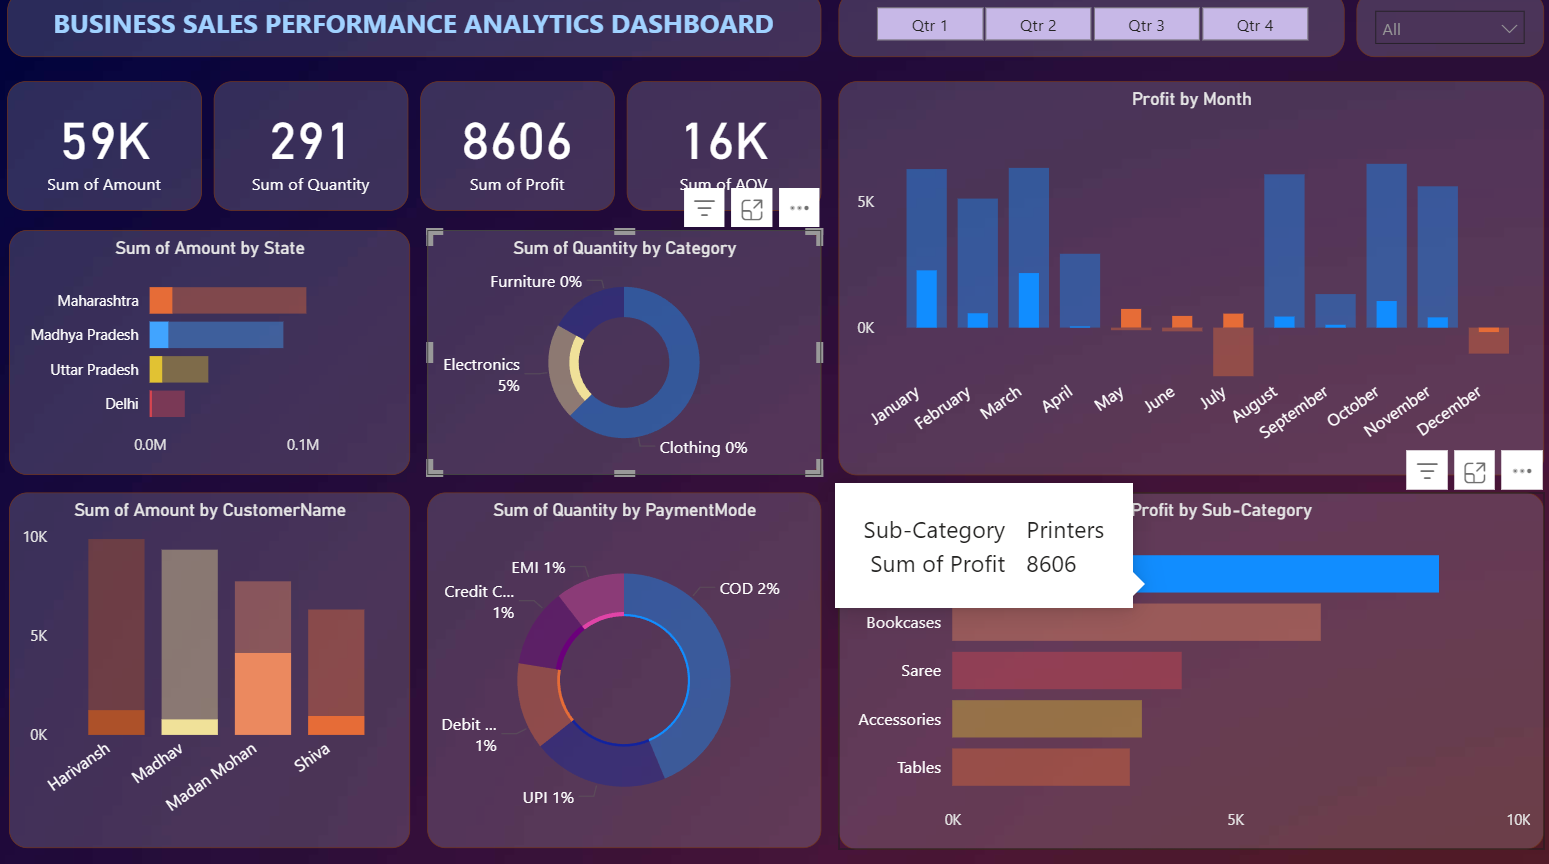

What the dashboard file says about the page in this screenshot:
{"tool":"powerbi","page":{"name":"Page 1","canvas":[1280,720],"ordinal":0},"visuals":[{"type":"textbox","box":[10,0,664.3,52.9],"z":0},{"type":"columnChart","title":"Profit by Month","fields":{"Y":["Sum(Details.Profit)"],"Category":["Orders.Order Date.Variation.Date Hierarchy.Month"]},"box":[688.6,72.9,575.7,321.4],"z":1000},{"type":"barChart","fields":{"Category":["Details.Sub-Category"],"Y":["Sum(Details.Profit)"]},"box":[688.6,408.6,575.7,291.4],"z":2000},{"type":"donutChart","fields":{"Category":["Details.Category"],"Y":["Sum(Details.Quantity)"]},"box":[352.9,194.3,321.4,200],"z":3000},{"type":"donutChart","fields":{"Y":["Sum(Details.Quantity)"],"Category":["Details.PaymentMode"]},"box":[352.9,408.6,321.4,290],"z":4000},{"type":"card","fields":{"Values":["Sum(Details.Amount)"]},"box":[10,72.9,158.6,105.7],"z":5000},{"type":"card","fields":{"Values":["Sum(Details.Quantity)"]},"box":[178.6,72.9,158.6,105.7],"z":6000},{"type":"card","fields":{"Values":["Sum(Details.Profit)"]},"box":[347.1,72.9,158.6,105.7],"z":7000},{"type":"card","fields":{"Values":["Sum(Details.AOV)"]},"box":[515.7,72.9,158.6,105.7],"z":8000},{"type":"barChart","fields":{"Category":["Orders.State"],"Y":["Sum(Details.Amount)"]},"box":[11.4,194.3,327.1,200],"z":9000},{"type":"columnChart","fields":{"Category":["Orders.CustomerName"],"Y":["Sum(Details.Amount)"]},"box":[11.4,408.6,327.1,290],"z":10000},{"type":"slicer","fields":{"Values":["Orders.Order Date.Variation.Date Hierarchy.Quarter"]},"box":[688.6,0,412.9,52.9],"z":11000},{"type":"slicer","fields":{"Values":["Orders.State"]},"box":[1111.4,0,152.9,52.9],"z":12000}]}

Visuals, with their boxes in screenshot pixels (x1, y1, x2, y2), scaled from the page's 1280x720 canvas onto the 1549x864 screenshot:
textbox: <bbox>12, 0, 816, 63</bbox>
"Profit by Month" columnChart: <bbox>833, 87, 1530, 473</bbox>
barChart - Details.Sub-Category x Sum(Details.Profit): <bbox>833, 490, 1530, 840</bbox>
donutChart - Details.Category x Sum(Details.Quantity): <bbox>427, 233, 816, 473</bbox>
donutChart - Sum(Details.Quantity) x Details.PaymentMode: <bbox>427, 490, 816, 838</bbox>
card - Sum(Details.Amount): <bbox>12, 87, 204, 214</bbox>
card - Sum(Details.Quantity): <bbox>216, 87, 408, 214</bbox>
card - Sum(Details.Profit): <bbox>420, 87, 612, 214</bbox>
card - Sum(Details.AOV): <bbox>624, 87, 816, 214</bbox>
barChart - Orders.State x Sum(Details.Amount): <bbox>14, 233, 410, 473</bbox>
columnChart - Orders.CustomerName x Sum(Details.Amount): <bbox>14, 490, 410, 838</bbox>
slicer - Orders.Order Date.Variation.Date Hierarchy.Quarter: <bbox>833, 0, 1333, 63</bbox>
slicer - Orders.State: <bbox>1345, 0, 1530, 63</bbox>
